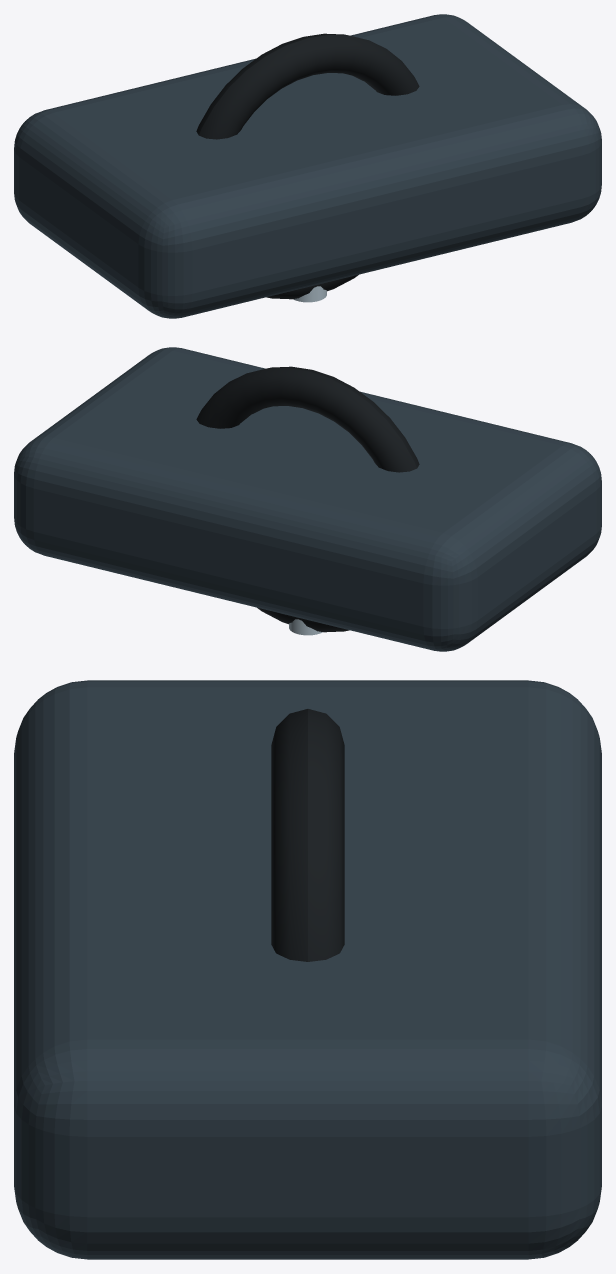
File: body_10.glb
3 renders of one model, top to bottom at view 1: azimuth 30°, elevation 25°; view 2: azimuth 150°, elevation 25°; view 3: azimuth 270°, elevation 25°, orthographic. The views are drawn at different scales.
Visible parts, largest first — view 1: asset_mesh__body_0530__reference_body, asset_mesh__body_0563__service_element; view 2: asset_mesh__body_0530__reference_body, asset_mesh__body_0563__service_element; view 3: asset_mesh__body_0530__reference_body, asset_mesh__body_0563__service_element.
Boxes of the visible parts, x1,y1,x2,y2 form: asset_mesh__body_0530__reference_body: (14,14,601,318); asset_mesh__body_0563__service_element: (196,33,419,299); asset_mesh__body_0530__reference_body: (14,347,601,651); asset_mesh__body_0563__service_element: (196,366,419,632); asset_mesh__body_0530__reference_body: (14,680,601,1259); asset_mesh__body_0563__service_element: (271,709,344,961).
Bounding box in the file's own units: 1.47 × 0.7868 × 0.882.
